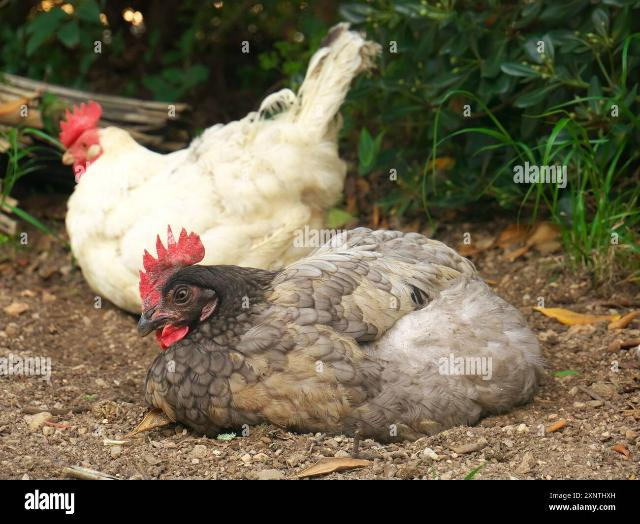Chicken: (59, 33, 379, 317), (135, 223, 546, 444)
